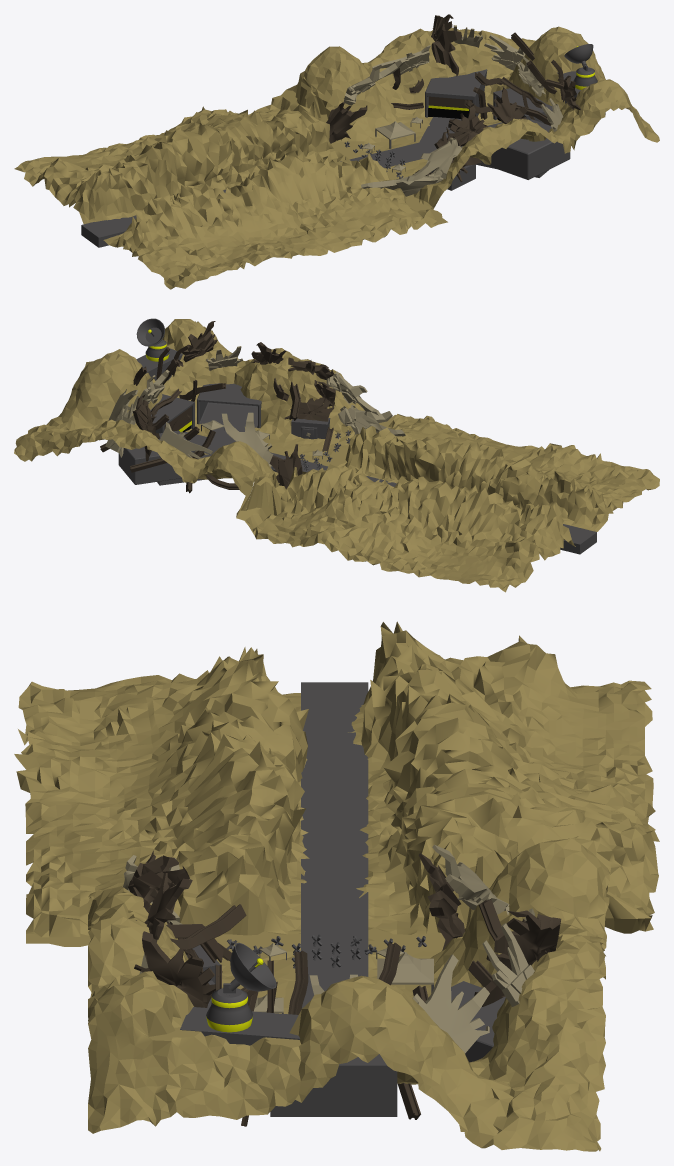
Rendered from scaled up map with no mans land.fbx.
The picture shows the model from 3 angles, top to bottom: view 1: azimuth 30°, elevation 25°; view 2: azimuth 150°, elevation 25°; view 3: azimuth 270°, elevation 25°; orthographic projection. The views are drawn at different scales.
Visible parts, largest first — view 1: pPlane13, polySurface55, polySurface73, polySurface125, polySurface61, polySurface98, polySurface80, polySurface99, polySurface128, polySurface58, polySurface60, polySurface31 (+7 smaller); view 2: pPlane13, polySurface55, polySurface73, polySurface125, polySurface128, polySurface44, polySurface58, polySurface98, polySurface80, polySurface56, polySurface84, polySurface82 (+9 smaller); view 3: pPlane13, polySurface125, polySurface44, polySurface60, polySurface84, polySurface61, polySurface86, polySurface80, polySurface36, polySurface58, polySurface37, polySurface99 (+6 smaller).
Boxes of the visible parts, x1,y1,x2,y2 form: pPlane13: [14, 26, 659, 289]; polySurface55: [489, 119, 570, 179]; polySurface73: [425, 69, 487, 118]; polySurface125: [81, 122, 502, 247]; polySurface61: [431, 14, 462, 76]; polySurface98: [406, 137, 461, 181]; polySurface80: [326, 102, 367, 143]; polySurface99: [446, 103, 488, 145]; polySurface128: [361, 169, 443, 196]; polySurface58: [344, 59, 405, 105]; polySurface60: [484, 34, 525, 70]; polySurface31: [487, 86, 527, 123]; pPlane13: [14, 319, 659, 592]; polySurface55: [197, 383, 261, 428]; polySurface73: [118, 430, 195, 484]; polySurface125: [184, 431, 596, 554]; polySurface128: [338, 405, 405, 436]; polySurface44: [150, 394, 194, 433]; polySurface58: [222, 412, 273, 464]; polySurface98: [326, 371, 380, 415]; polySurface80: [269, 444, 302, 489]; polySurface56: [284, 397, 333, 421]; polySurface84: [182, 321, 217, 362]; polySurface82: [160, 422, 212, 458]; pPlane13: [14, 621, 659, 1151]; polySurface125: [301, 682, 368, 1008]; polySurface44: [270, 1054, 397, 1116]; polySurface60: [412, 954, 489, 1053]; polySurface84: [134, 931, 222, 1007]; polySurface61: [474, 910, 561, 1006]; polySurface86: [180, 1007, 299, 1045]; polySurface80: [418, 853, 465, 950]; polySurface36: [482, 923, 534, 1006]; polySurface58: [432, 844, 509, 914]; polySurface37: [206, 983, 253, 1032]; polySurface99: [128, 850, 189, 913].
Bounding box in the file's own units: 45245 × 8945 × 24901.
